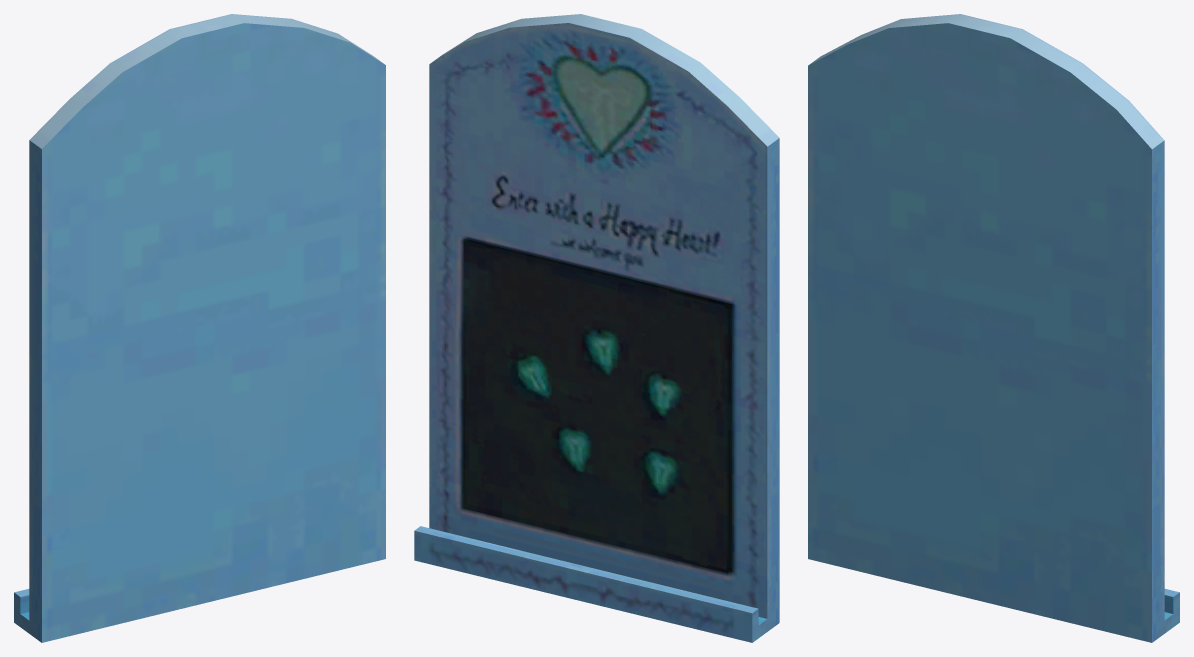
File: furni_0200142_03.FBX
3 renders of one model, left to right at view 1: azimuth 30°, elevation 25°; view 2: azimuth 150°, elevation 25°; view 3: azimuth 330°, elevation 25°, orthographic.
Parts seen in each view (by area): view 1: furni_0200142_03; view 2: furni_0200142_03; view 3: furni_0200142_03.
Part boxes in pixels (left/top/right/bottom): furni_0200142_03: left=14, top=14, right=385, bottom=642; furni_0200142_03: left=414, top=14, right=779, bottom=642; furni_0200142_03: left=808, top=14, right=1179, bottom=642.
Size of the model in its own units: 47.9 by 75.89 by 6.7.
